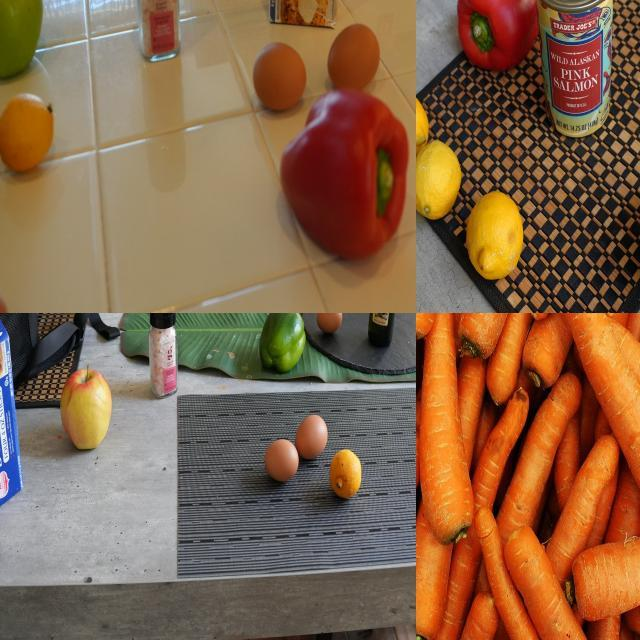bell_pepper: (267, 109, 405, 264), (458, 1, 535, 65), (260, 314, 305, 377)
carrot: (549, 314, 640, 526), (422, 314, 475, 546), (561, 468, 640, 612), (506, 526, 605, 640)
egg: (252, 39, 310, 117), (331, 23, 385, 91), (266, 437, 302, 489), (295, 413, 329, 461), (313, 314, 345, 338)
